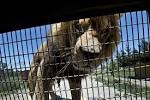lion: (26, 18, 127, 100)
